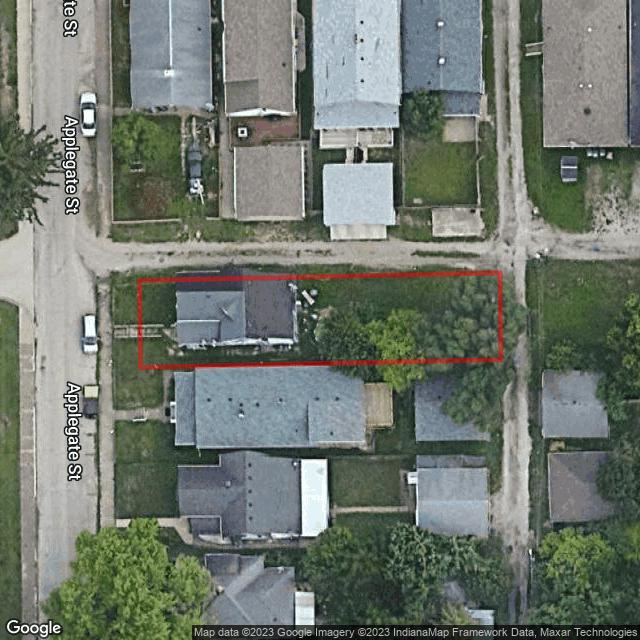Driveway: (142, 324, 179, 343)
Extra Driveway: (113, 325, 138, 340)
Extra Lawn: (109, 264, 484, 278), (110, 278, 138, 325), (112, 338, 138, 370)
House: (175, 280, 298, 348)
Other: (314, 306, 334, 341)
